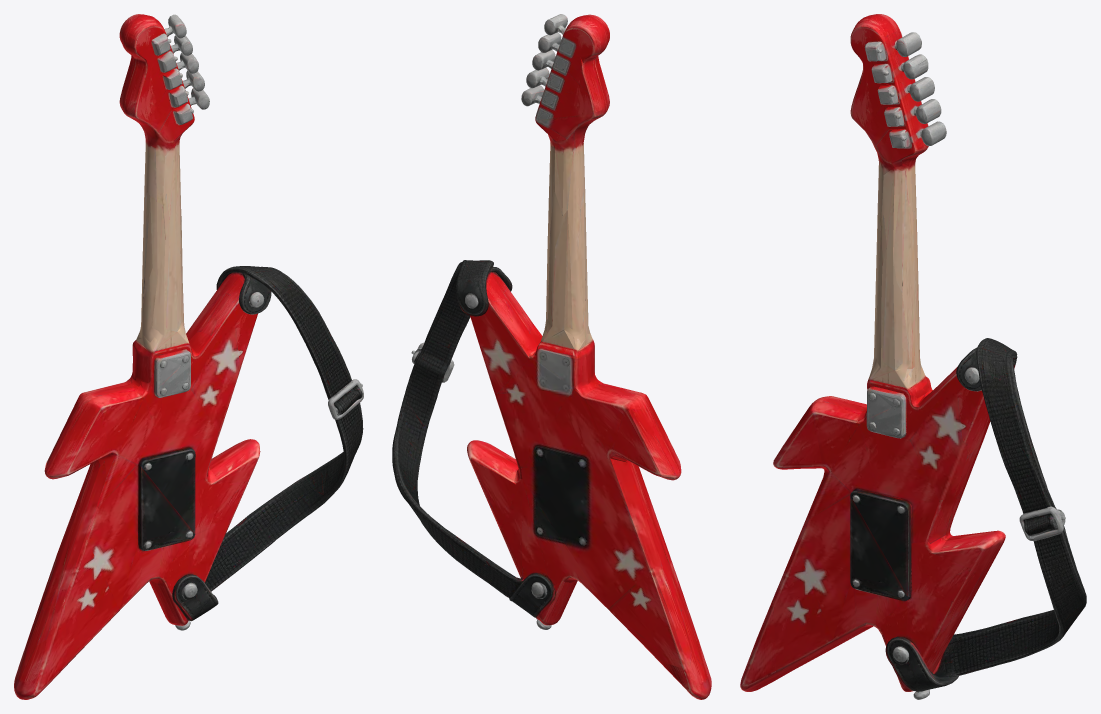
The model's file is rock_guitar.glb.
3 views of the same model, side by side, from view 1: azimuth 30°, elevation 25°; view 2: azimuth 150°, elevation 25°; view 3: azimuth 330°, elevation 25° (orthographic). The views are drawn at different scales.
Visible parts, largest first — view 1: Mesh_0; view 2: Mesh_0; view 3: Mesh_0.
Boxes of the visible parts, x1,y1,x2,y2 form: Mesh_0: (14,14,363,699); Mesh_0: (392,14,711,699); Mesh_0: (740,14,1086,699).
Bounding box in the file's own units: 0.5236 × 1 × 0.1257.
Materials: 1 (1 with a texture image).
